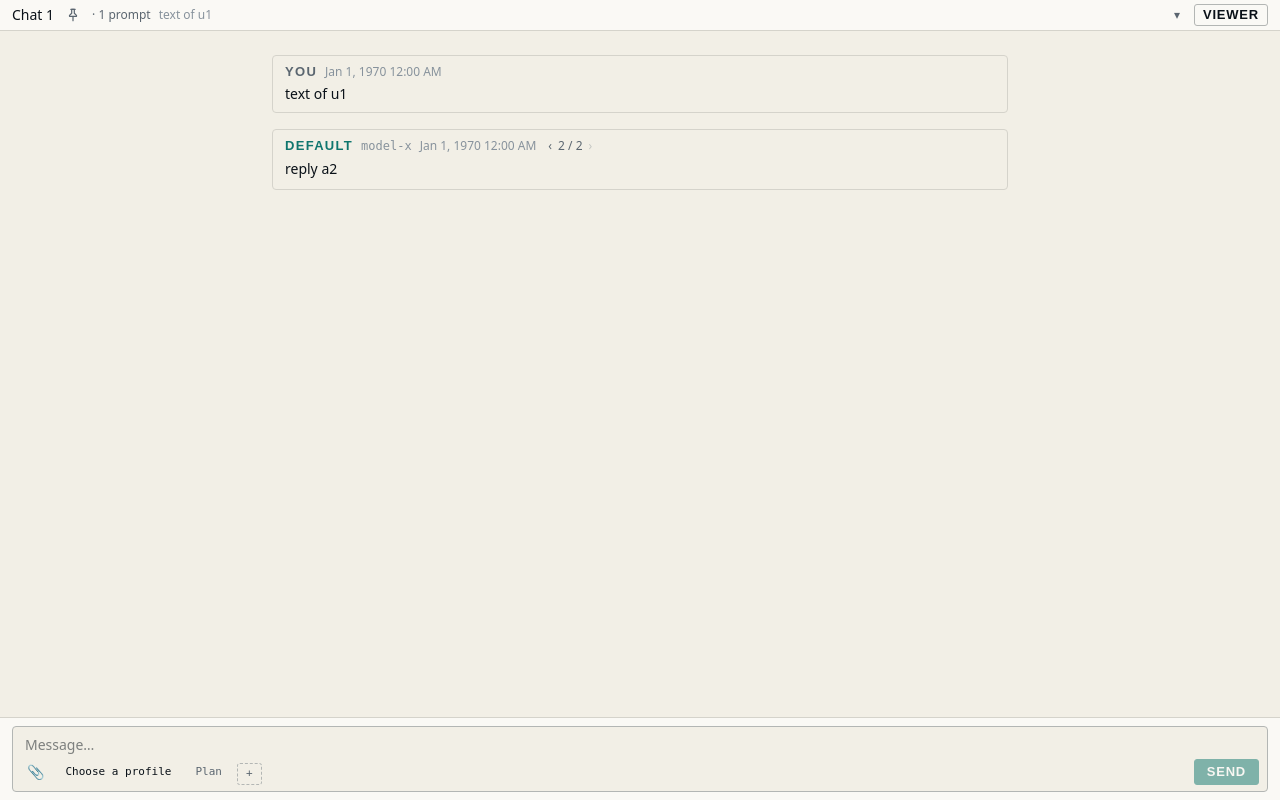
Test case: Thread regenerate, edit and branch switching › does not announce a branch switch the server refused
Click the button named "Previous branch".
click(550, 146)  # box [544,140,556,152]
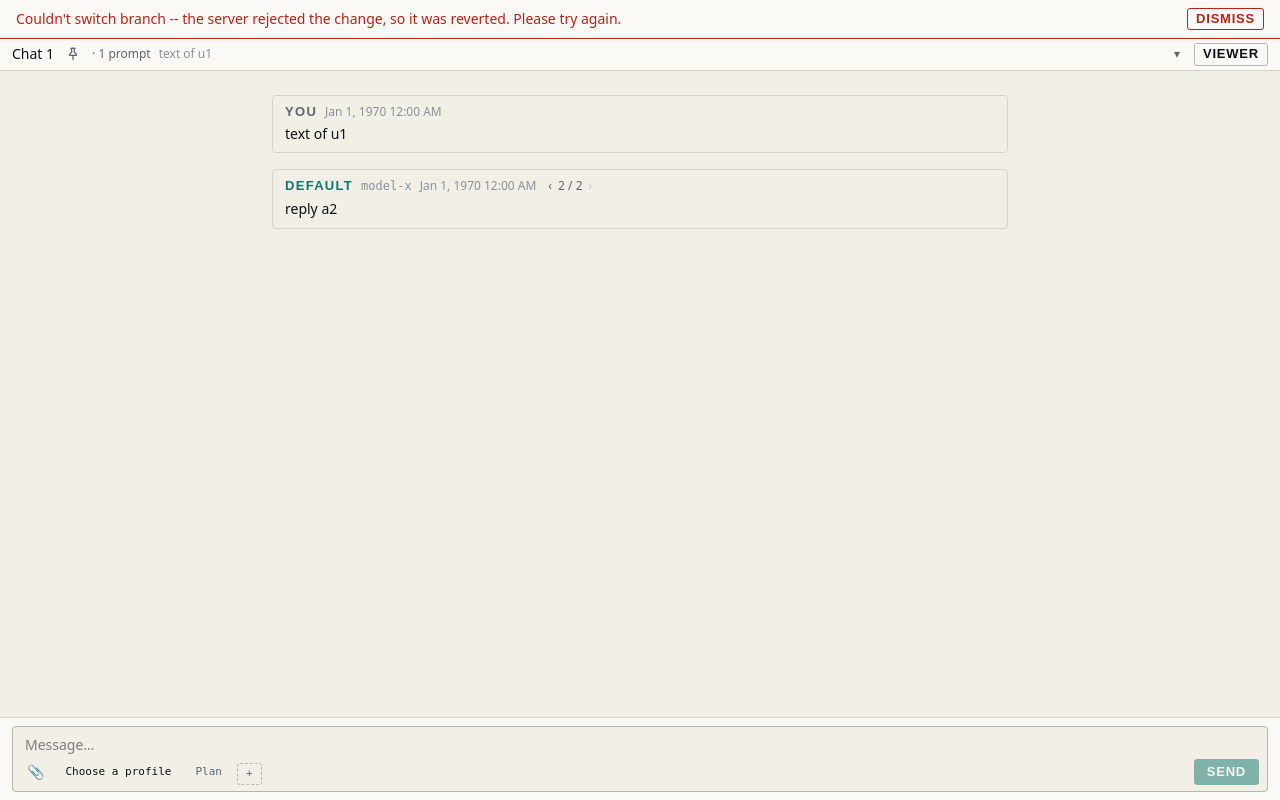
Expected: the message is shown, [0,0,1279,39]
